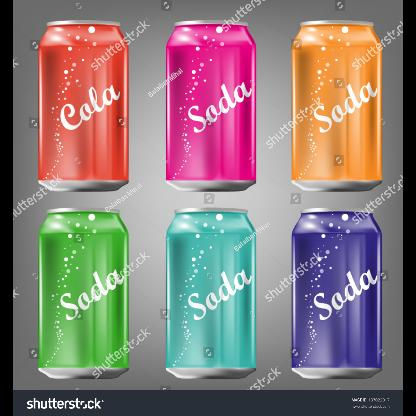Tin_Can: (156, 16, 268, 198), (32, 200, 138, 384), (281, 14, 384, 198), (34, 11, 130, 195), (286, 207, 388, 380), (162, 202, 260, 382)
